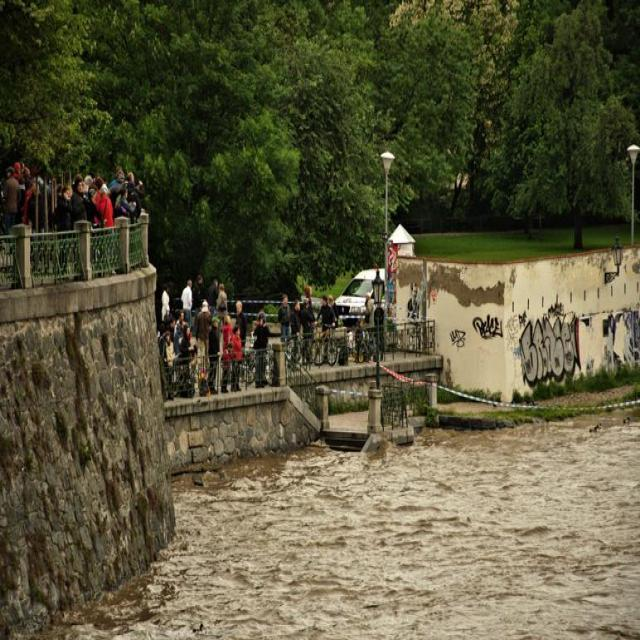flood: (12, 412, 640, 640)
